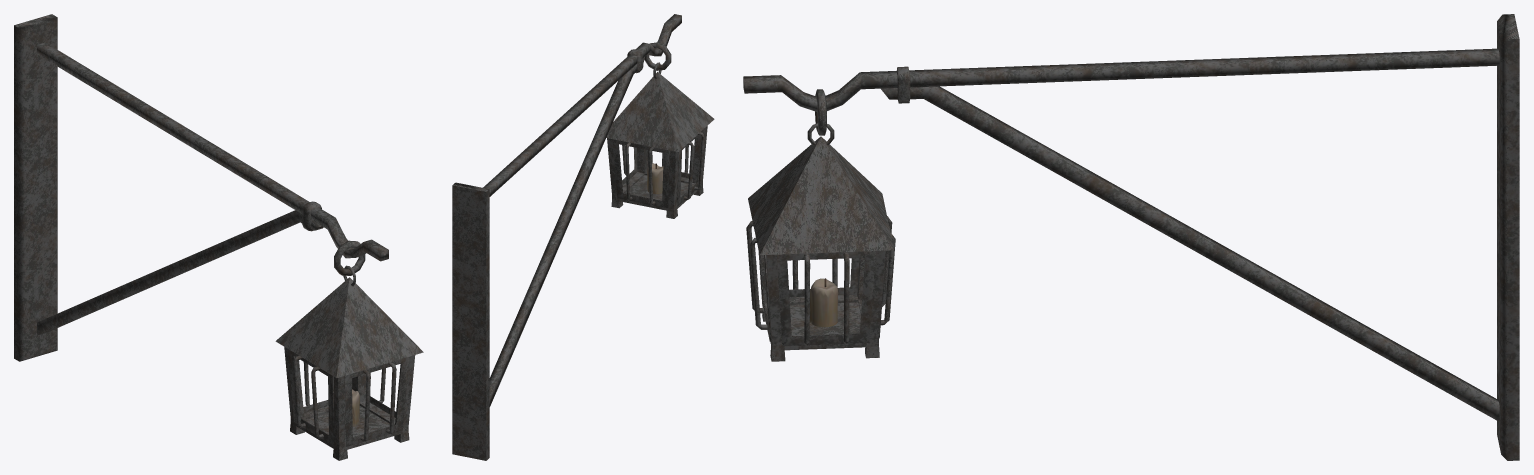
Rendered from House_Light.glb.
3 views of the same model, side by side, from view 1: azimuth 30°, elevation 25°; view 2: azimuth 150°, elevation 25°; view 3: azimuth 270°, elevation 25° (orthographic). The views are drawn at different scales.
Parts seen in each view (by area): view 1: SM_House_Light; view 2: SM_House_Light; view 3: SM_House_Light.
Boxes of the visible parts, x1,y1,x2,y2 form: SM_House_Light: (14,14,423,460); SM_House_Light: (452,14,714,460); SM_House_Light: (743,14,1519,460).
Bounding box in the file's own units: 0.2495 × 0.7039 × 1.17.
Materials: 2 (2 with a texture image).
